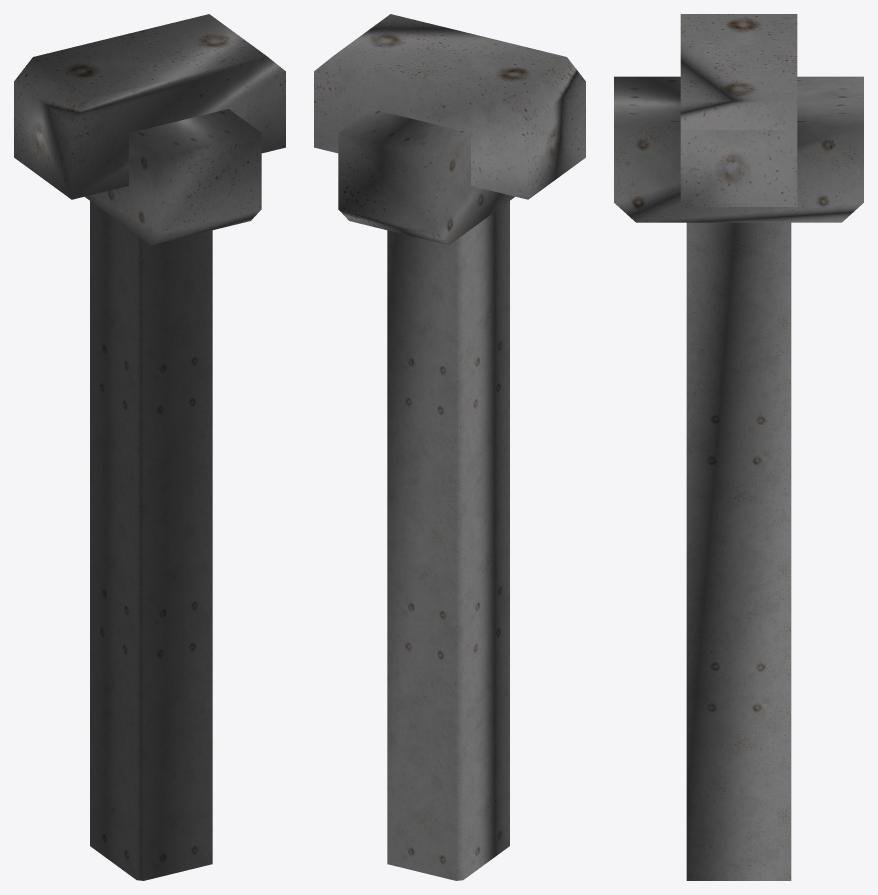
The model's file is Ob_BridgeSupportConnector_RC.fbx.
3 views of the same model, side by side, from view 1: azimuth 30°, elevation 25°; view 2: azimuth 150°, elevation 25°; view 3: azimuth 270°, elevation 25° (orthographic).
Parts seen in each view (by area): view 1: Ob_BridgeSupportConnector_RC; view 2: Ob_BridgeSupportConnector_RC; view 3: Ob_BridgeSupportConnector_RC.
Part boxes in pixels (x1,y1,x2,y2): Ob_BridgeSupportConnector_RC: (14,14,285,880); Ob_BridgeSupportConnector_RC: (314,14,585,880); Ob_BridgeSupportConnector_RC: (614,14,863,880).
Size of the model in its own units: 194 by 690 by 194.
